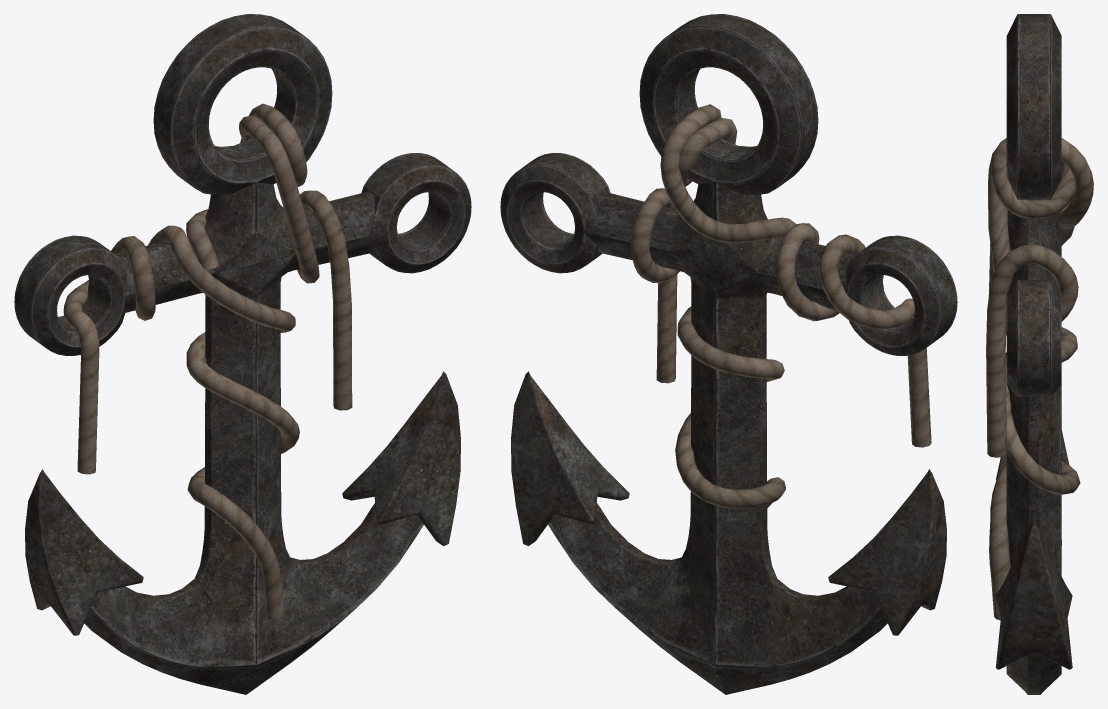
The model's file is Anchor.fbx.
3 renders of one model, left to right at view 1: azimuth 30°, elevation 25°; view 2: azimuth 150°, elevation 25°; view 3: azimuth 270°, elevation 25°, orthographic.
Visible parts, largest first — view 1: Anchor; view 2: Anchor; view 3: Anchor.
Part boxes in pixels (bbox=[...]): Anchor: bbox=[14, 14, 471, 694]; Anchor: bbox=[500, 14, 957, 694]; Anchor: bbox=[986, 14, 1093, 694].
Bounding box in the file's own units: 127 × 185 × 26.96.
